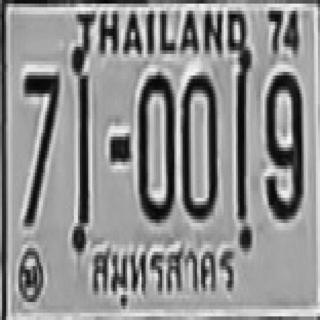N00: (139, 72, 173, 219), (181, 72, 215, 216)
N01: (74, 72, 88, 234)
N07: (23, 68, 57, 223), (23, 68, 57, 194)
N09: (264, 70, 302, 218)
P58: (88, 240, 239, 310)
